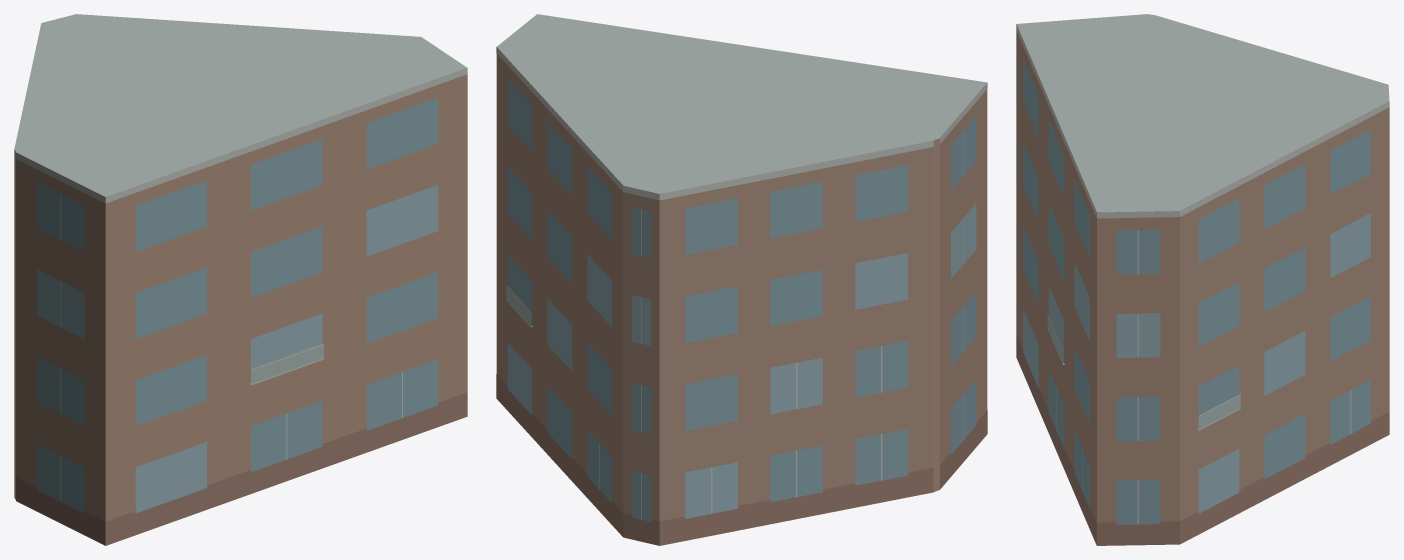
File: survey-upis-33017367.glb
3 views of the same model, side by side, from view 1: azimuth 30°, elevation 25°; view 2: azimuth 150°, elevation 25°; view 3: azimuth 270°, elevation 25° (orthographic). The views are drawn at different scales.
Visible parts, largest first — view 1: survey-upis-33017367.tmp; view 2: survey-upis-33017367.tmp; view 3: survey-upis-33017367.tmp.
Boxes of the visible parts, x1,y1,x2,y2 form: survey-upis-33017367.tmp: (14,14,467,545); survey-upis-33017367.tmp: (496,14,987,545); survey-upis-33017367.tmp: (1016,14,1389,545).
Size of the model in its own units: 17.11 by 13.4 by 13.6.
